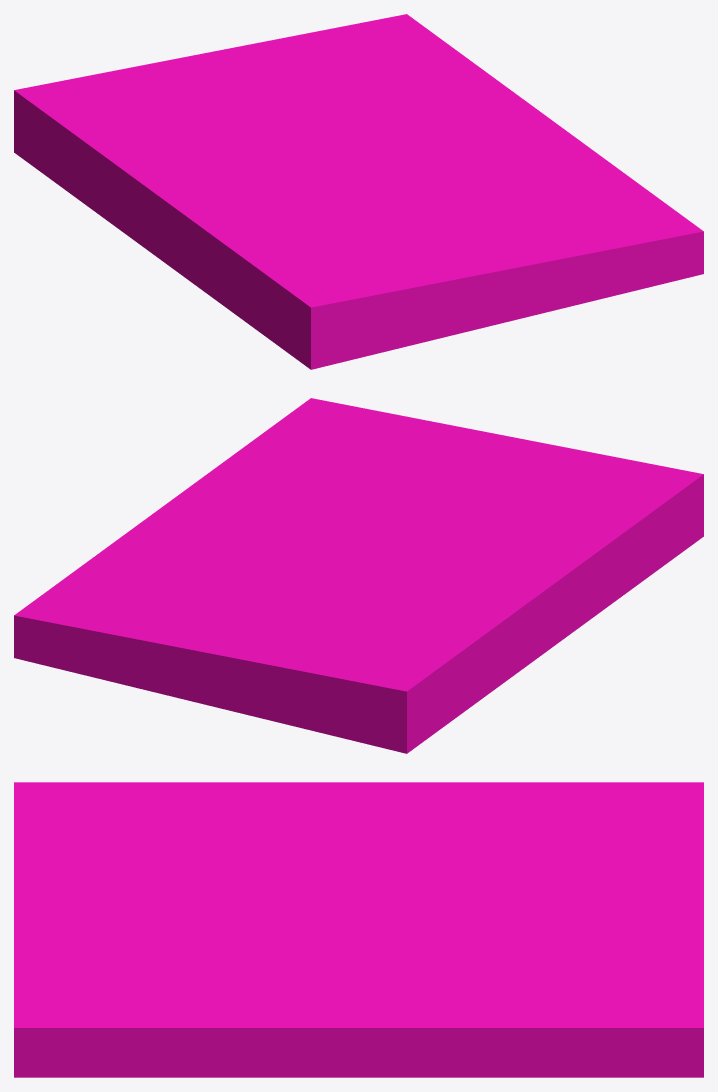
Rendered from study_notepad_closed_meshCollider.fbx.
The picture shows the model from 3 angles, top to bottom: view 1: azimuth 30°, elevation 25°; view 2: azimuth 150°, elevation 25°; view 3: azimuth 270°, elevation 25°; orthographic projection. The views are drawn at different scales.
Visible parts, largest first — view 1: study_notepad_closed_meshCollider; view 2: study_notepad_closed_meshCollider; view 3: study_notepad_closed_meshCollider.
Part boxes in pixels (x1,y1,x2,y2): study_notepad_closed_meshCollider: [14, 14, 703, 369]; study_notepad_closed_meshCollider: [14, 398, 703, 753]; study_notepad_closed_meshCollider: [14, 782, 703, 1077].
Size of the model in its own units: 16.35 by 2.48 by 21.41.
